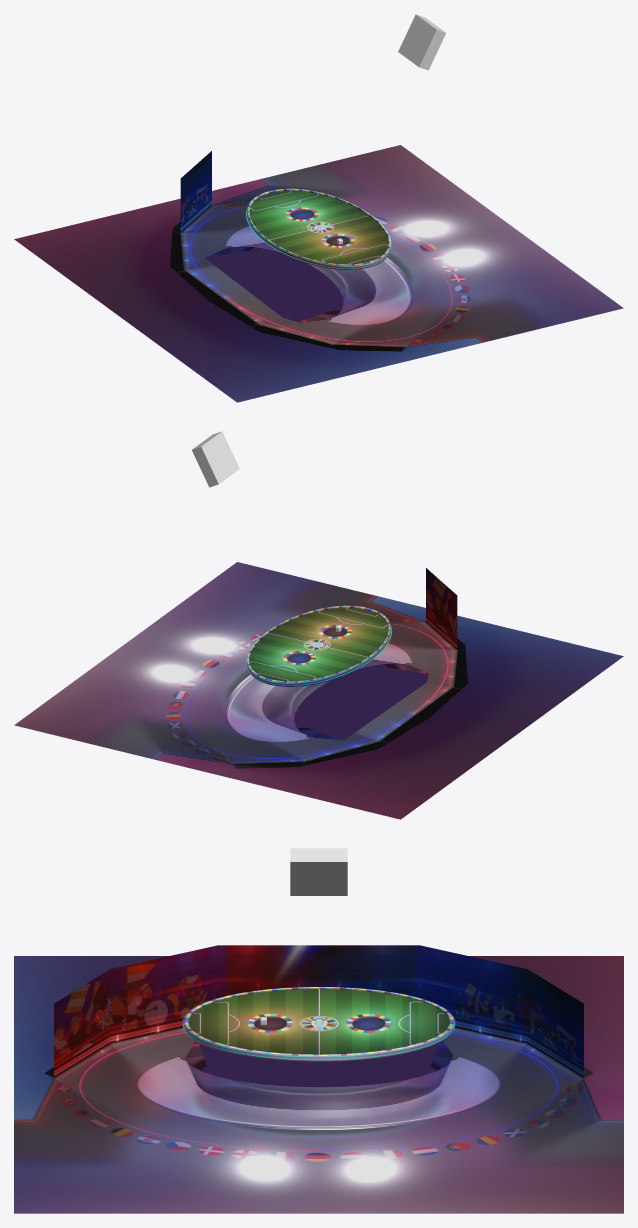
File: stage.glb
3 renders of one model, top to bottom at view 1: azimuth 30°, elevation 25°; view 2: azimuth 150°, elevation 25°; view 3: azimuth 270°, elevation 25°, orthographic. The views are drawn at different scales.
Parts seen in each view (by area): view 1: floor2, table, backdrop1, camera, table-edge; view 2: floor2, table, backdrop1, camera, table-edge; view 3: floor2, backdrop1, table, table-edge, camera.
Boxes of the visible parts, bbox=[...] form: floor2: bbox=[14, 145, 623, 402]; table: bbox=[249, 191, 388, 264]; backdrop1: bbox=[180, 151, 211, 232]; camera: bbox=[398, 14, 445, 70]; table-edge: bbox=[246, 188, 390, 269]; floor2: bbox=[14, 562, 623, 819]; table: bbox=[249, 608, 388, 681]; backdrop1: bbox=[426, 568, 457, 649]; camera: bbox=[192, 431, 239, 487]; table-edge: bbox=[247, 605, 391, 686]; floor2: bbox=[14, 956, 623, 1213]; backdrop1: bbox=[54, 945, 583, 1077]; table: bbox=[188, 989, 449, 1054]; table-edge: bbox=[183, 987, 454, 1061]; camera: bbox=[290, 848, 347, 895].
Size of the model in its own units: 21.21 by 11.97 by 21.21.
8 materials, 8 textured.
